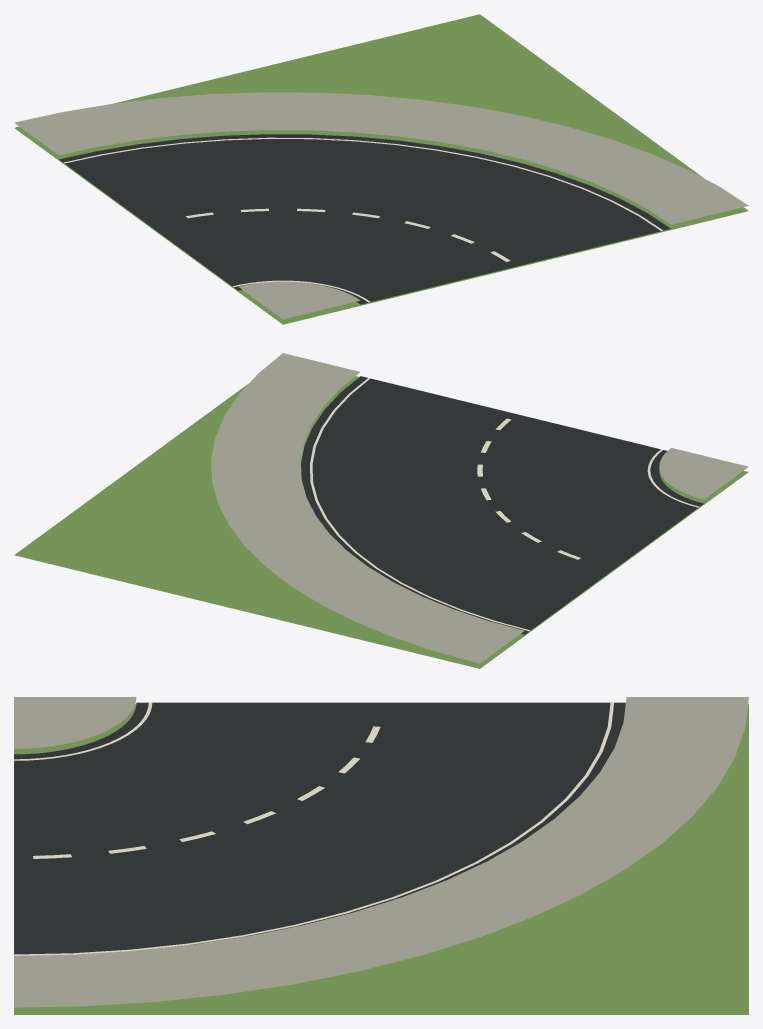
The model's file is RoadCorner.obj.
The picture shows the model from 3 angles, top to bottom: view 1: azimuth 30°, elevation 25°; view 2: azimuth 150°, elevation 25°; view 3: azimuth 270°, elevation 25°; orthographic projection. The views are drawn at different scales.
Parts seen in each view (by area): view 1: RoadCorner; view 2: RoadCorner; view 3: RoadCorner.
Boxes of the visible parts, x1,y1,x2,y2 form: RoadCorner: (14,14,748,324); RoadCorner: (14,353,748,668); RoadCorner: (14,697,748,1014).
Bounding box in the file's own units: 12 × 0.13 × 12.
